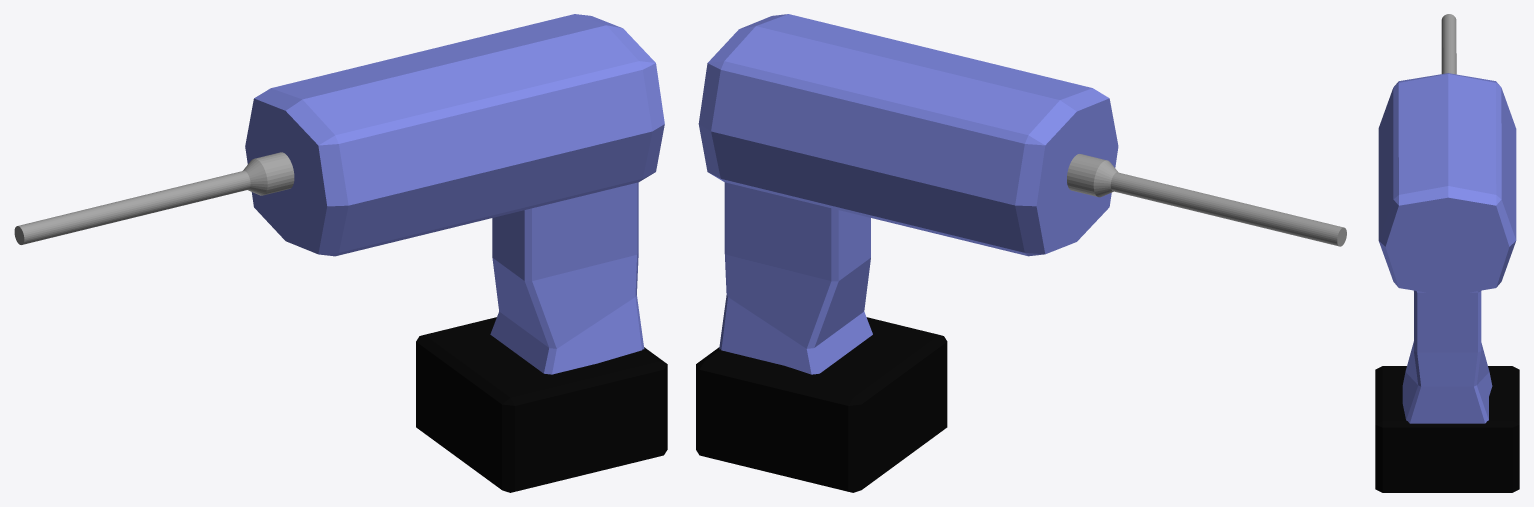
The model's file is Drill2.fbx.
3 renders of one model, left to right at view 1: azimuth 30°, elevation 25°; view 2: azimuth 150°, elevation 25°; view 3: azimuth 270°, elevation 25°, orthographic. The views are drawn at different scales.
Parts seen in each view (by area): view 1: Drill.002; view 2: Drill.002; view 3: Drill.002.
Part boxes in pixels (bbox=[...]): Drill.002: bbox=[14, 14, 667, 492]; Drill.002: bbox=[696, 14, 1346, 492]; Drill.002: bbox=[1375, 14, 1519, 492].
Bounding box in the file's own units: 366 × 100 × 233.
